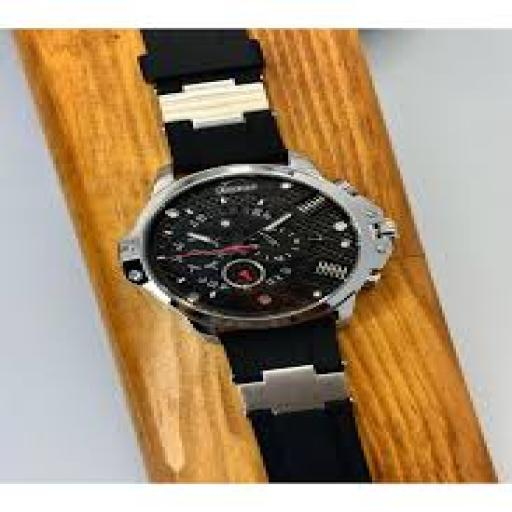KolSaati: (70, 28, 447, 484)
